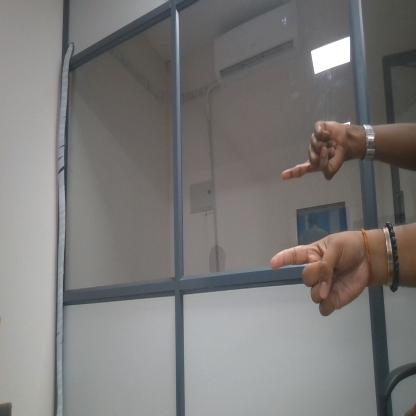Right: (266, 226, 372, 319), (278, 106, 349, 191)
